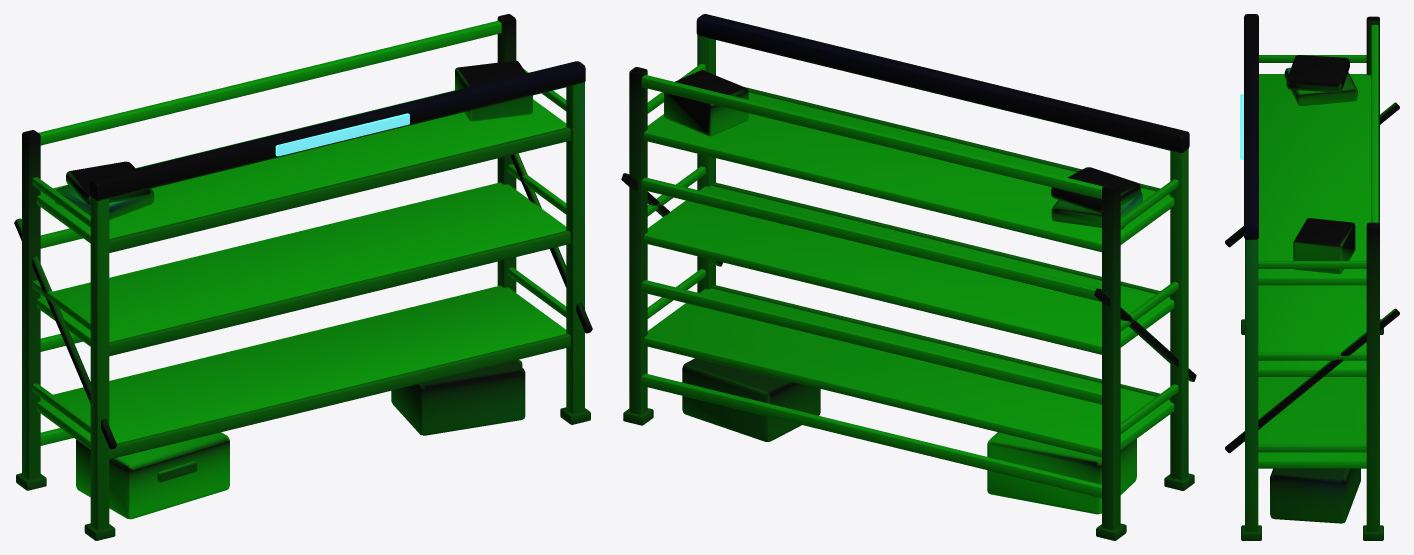
File: hero_open_supply_shelf.glb
3 renders of one model, left to right at view 1: azimuth 30°, elevation 25°; view 2: azimuth 150°, elevation 25°; view 3: azimuth 270°, elevation 25°, orthographic. The views are drawn at different scales.
Parts seen in each view (by area): view 1: HeroOpenSupplyShelf; view 2: HeroOpenSupplyShelf; view 3: HeroOpenSupplyShelf.
Part boxes in pixels (x1=…): HeroOpenSupplyShelf: x1=14, y1=14, x2=592, y2=540; HeroOpenSupplyShelf: x1=621, y1=14, x2=1196, y2=540; HeroOpenSupplyShelf: x1=1225, y1=14, x2=1399, y2=540.
Size of the model in its own units: 3.42 by 2.34 by 1.18.
